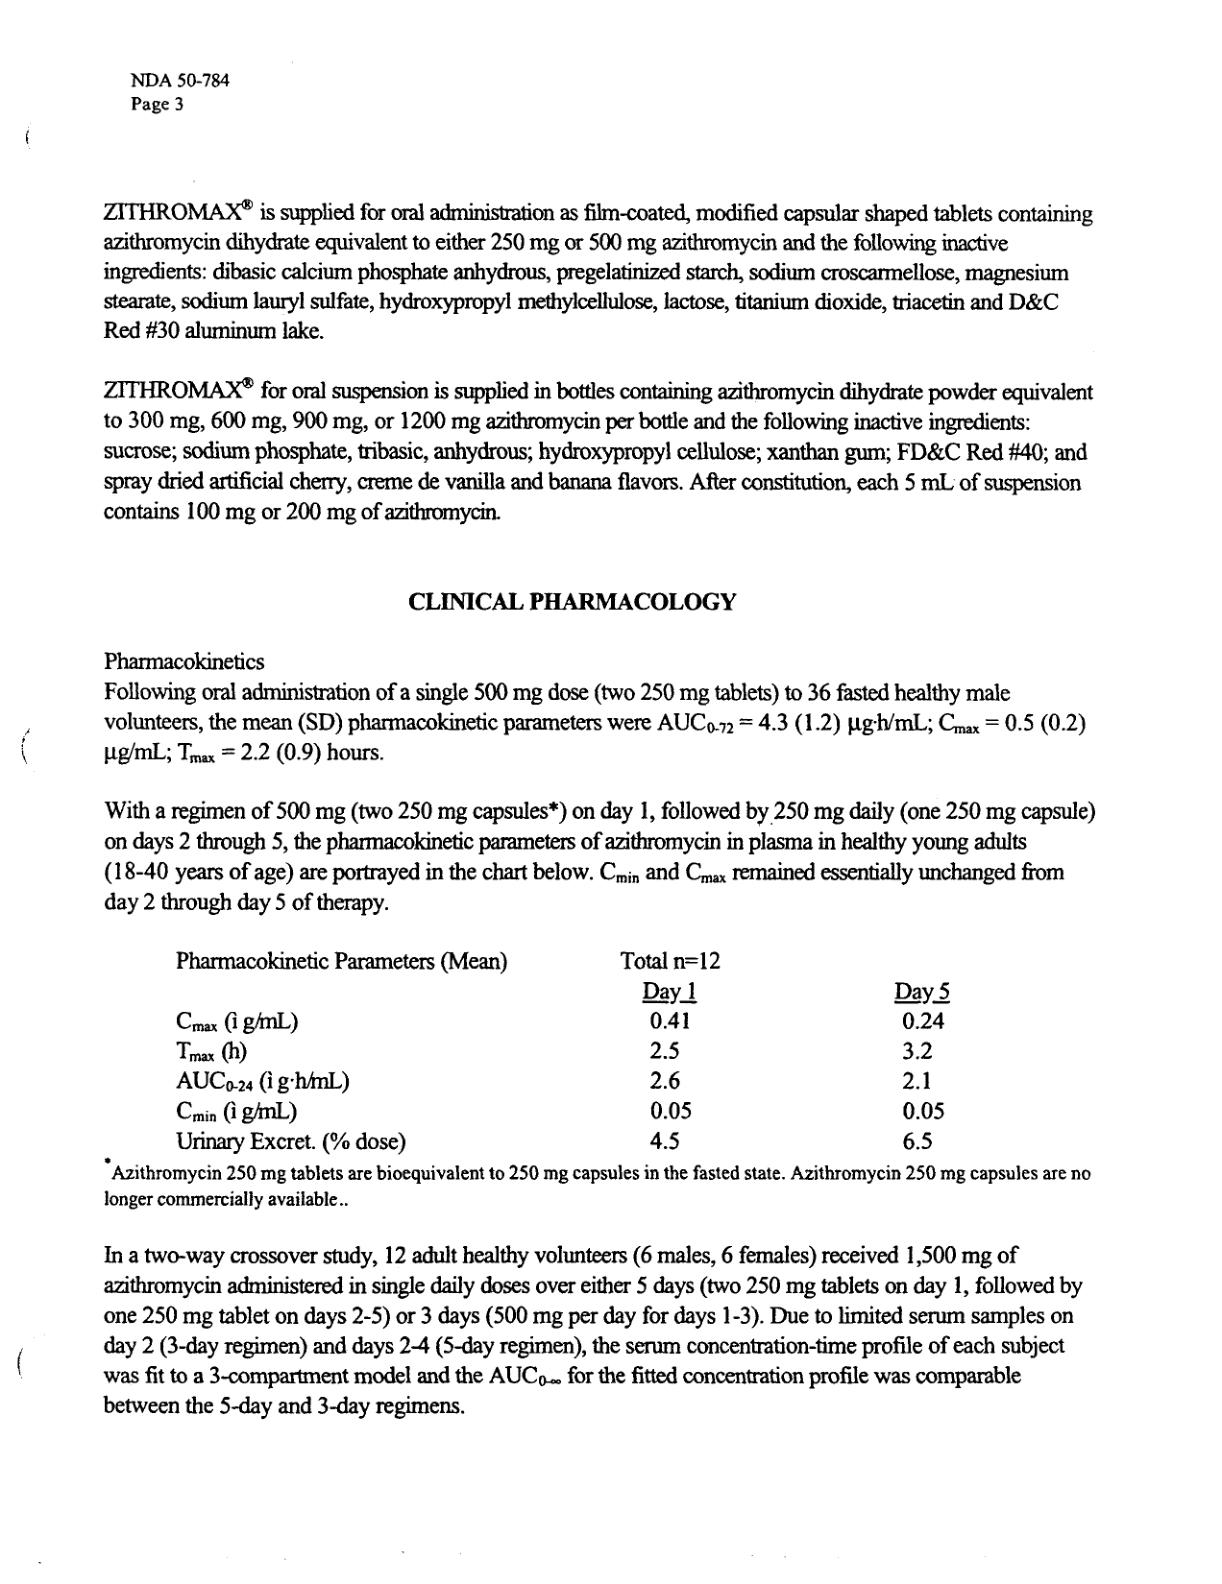nolines: (173, 950, 955, 1157)
